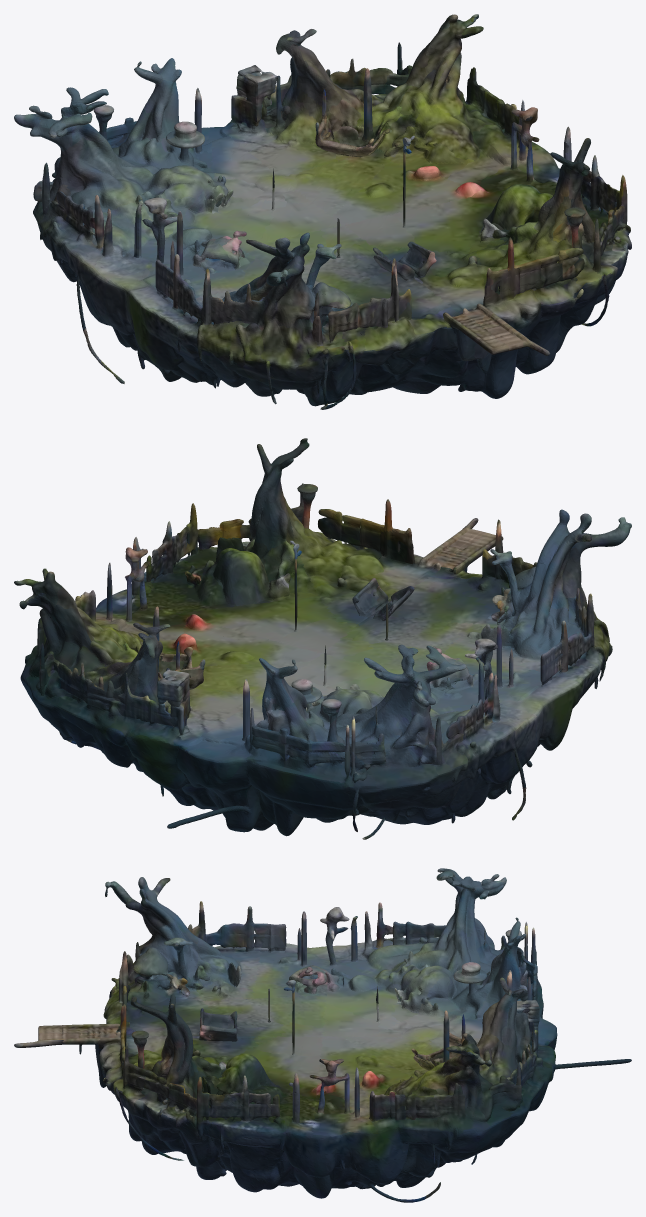
Rendered from cursed-forest.glb.
The picture shows the model from 3 angles, top to bottom: view 1: azimuth 30°, elevation 25°; view 2: azimuth 150°, elevation 25°; view 3: azimuth 270°, elevation 25°; orthographic projection. The views are drawn at different scales.
Visible parts, largest first — view 1: tripo_node_d0d1616b-20b2-42a6-853f-e1bb2198dec3; view 2: tripo_node_d0d1616b-20b2-42a6-853f-e1bb2198dec3; view 3: tripo_node_d0d1616b-20b2-42a6-853f-e1bb2198dec3.
Boxes of the visible parts, x1=… form: tripo_node_d0d1616b-20b2-42a6-853f-e1bb2198dec3: x1=14, y1=14, x2=631, y2=409; tripo_node_d0d1616b-20b2-42a6-853f-e1bb2198dec3: x1=14, y1=438, x2=631, y2=839; tripo_node_d0d1616b-20b2-42a6-853f-e1bb2198dec3: x1=14, y1=868, x2=631, y2=1202.
Size of the model in its own units: 24202 by 11509 by 32767.
Materials: 1 (1 with a texture image).
